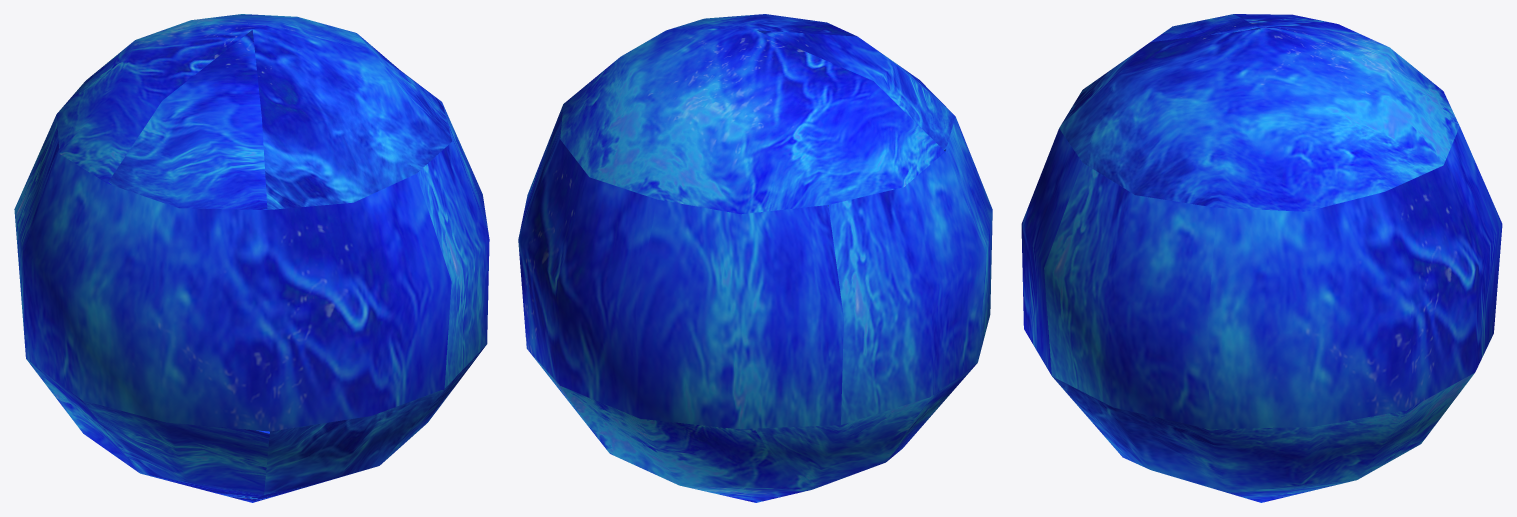
Rendered from Fireball.FBX.
3 renders of one model, left to right at view 1: azimuth 30°, elevation 25°; view 2: azimuth 150°, elevation 25°; view 3: azimuth 270°, elevation 25°, orthographic.
Parts seen in each view (by area): view 1: Sphere001; view 2: Sphere001; view 3: Sphere001.
Part boxes in pixels (<box>): Sphere001: <box>14,14,489,502</box>; Sphere001: <box>518,14,992,502</box>; Sphere001: <box>1021,14,1502,502</box>.
Size of the model in its own units: 0.4918 by 0.5469 by 0.5031.
Materials: 1 (1 with a texture image).
